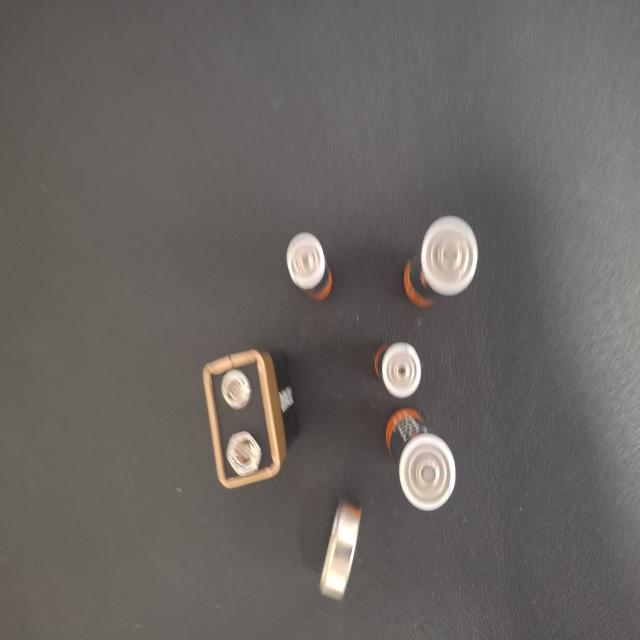9V: (342, 152, 437, 290)
AA: (185, 130, 254, 232), (163, 333, 236, 424)
AAA: (308, 340, 353, 408), (219, 242, 265, 298)
COIN: (279, 39, 320, 140)
